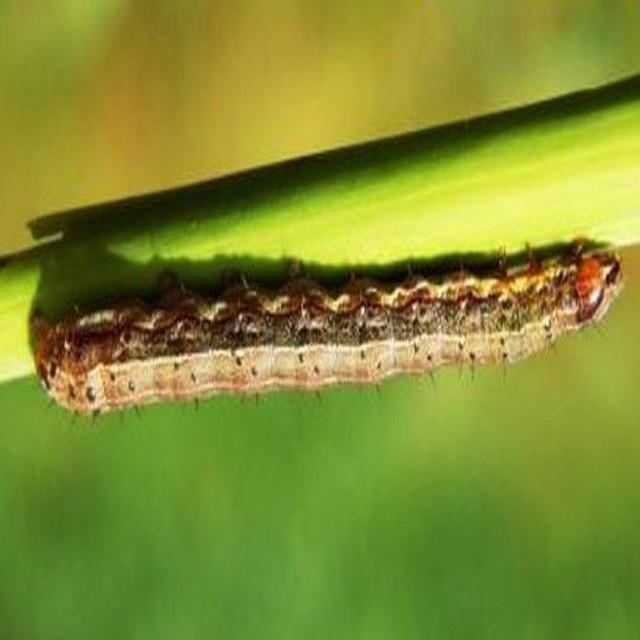gusano_cogollero: (35, 260, 630, 410)
